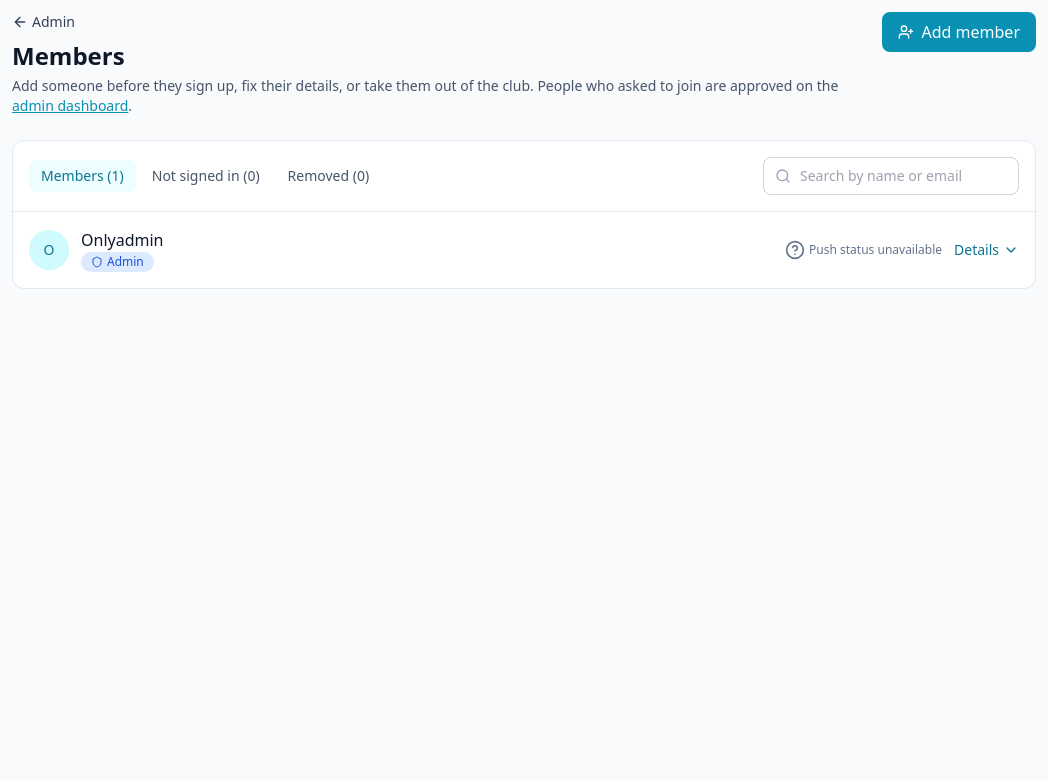
Test: editing a member › keeps the form open with the reason when the save is refused
The width and height of the screenshot is (1048, 780).
Click the button with aria-label "details for onlyadmin". click: (49, 250)
box: [29,229,1019,272]
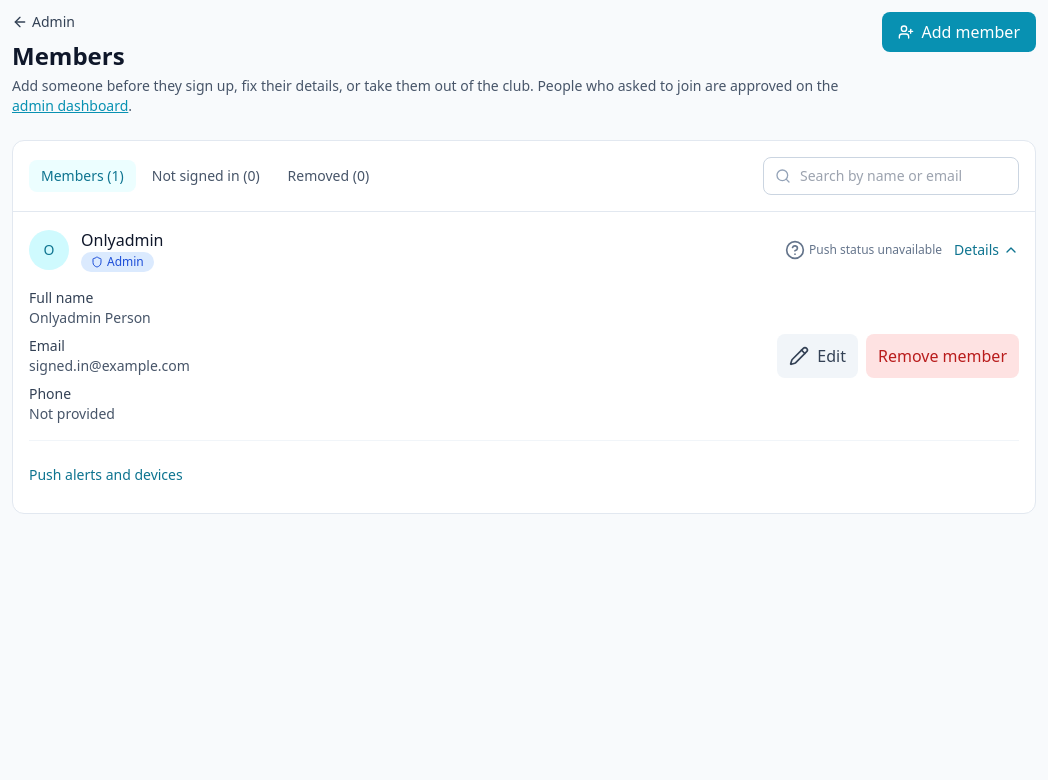
Click the button with aria-label "edit onlyadmin". click: (818, 356)
box: [777,334,858,378]
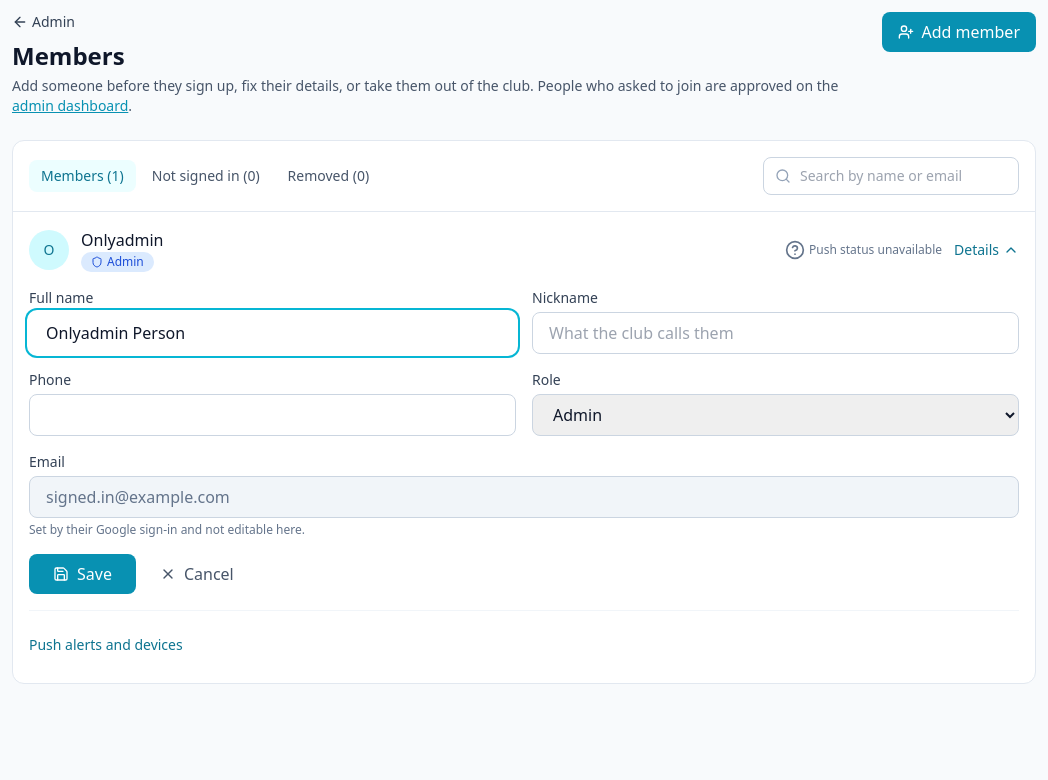
Select "Player" in the dropdown labelled "Role". click: (776, 415)
box: [532,394,1019,436]
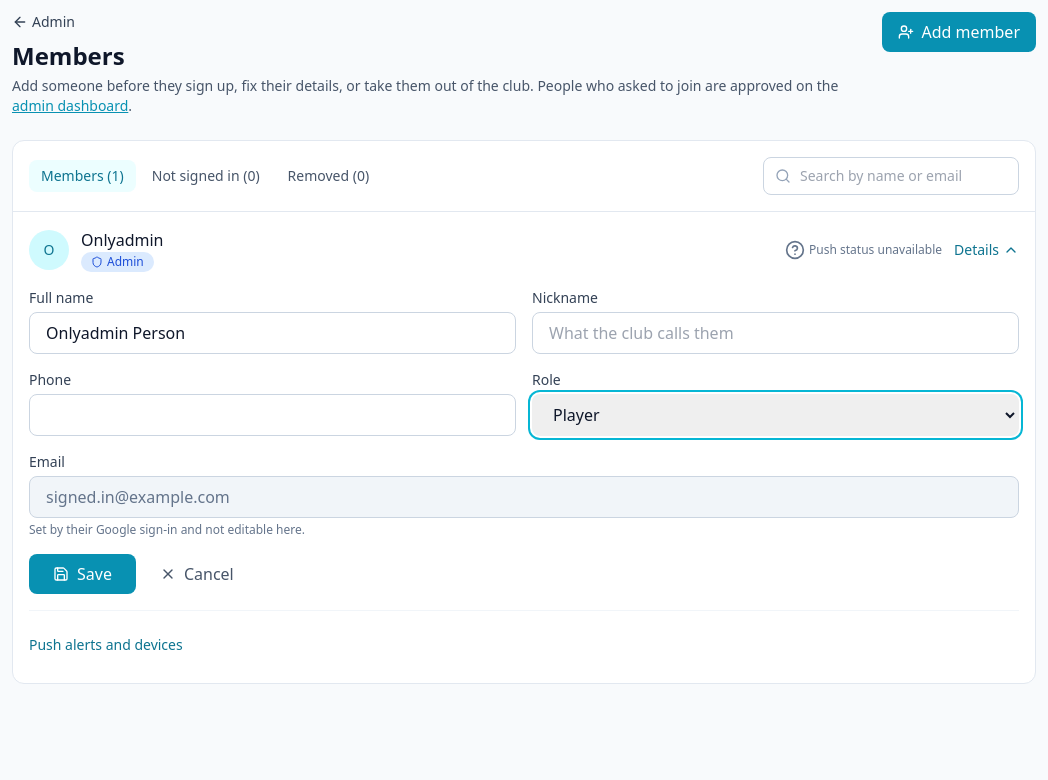
Click the button "Save". click: (82, 574)
box: [29,554,136,594]
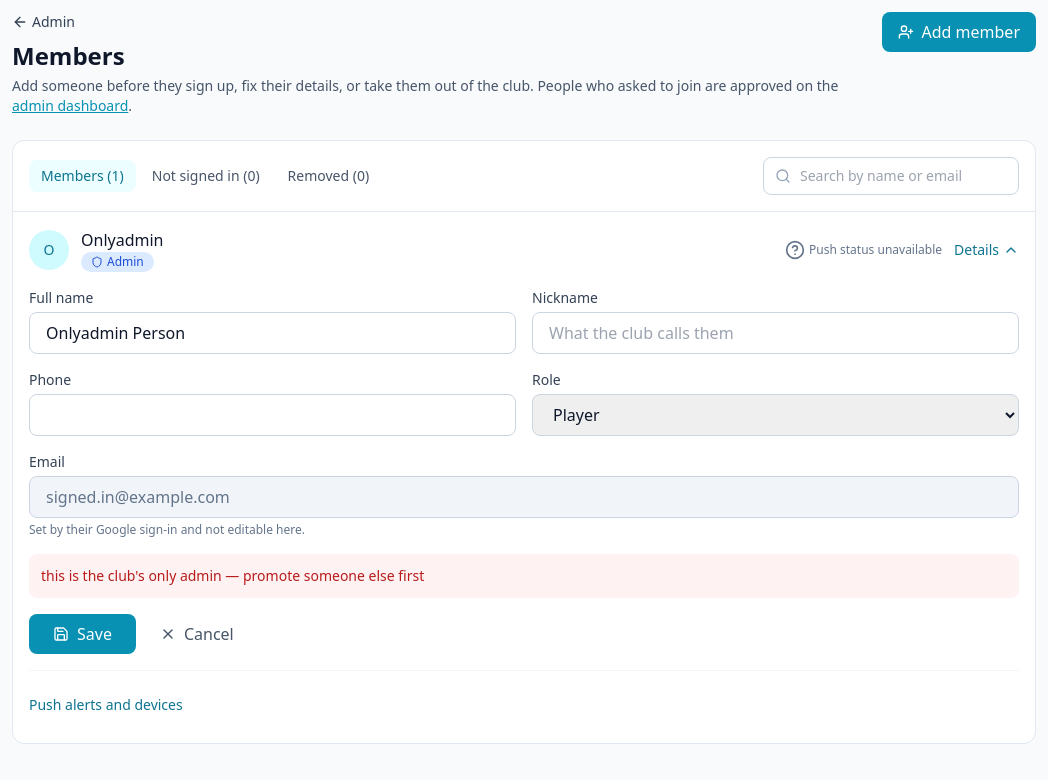
Now the form named "edit onlyadmin" is shown, box [29,288,1019,654]
Now the message shows "only admin", box [41,566,424,585]
